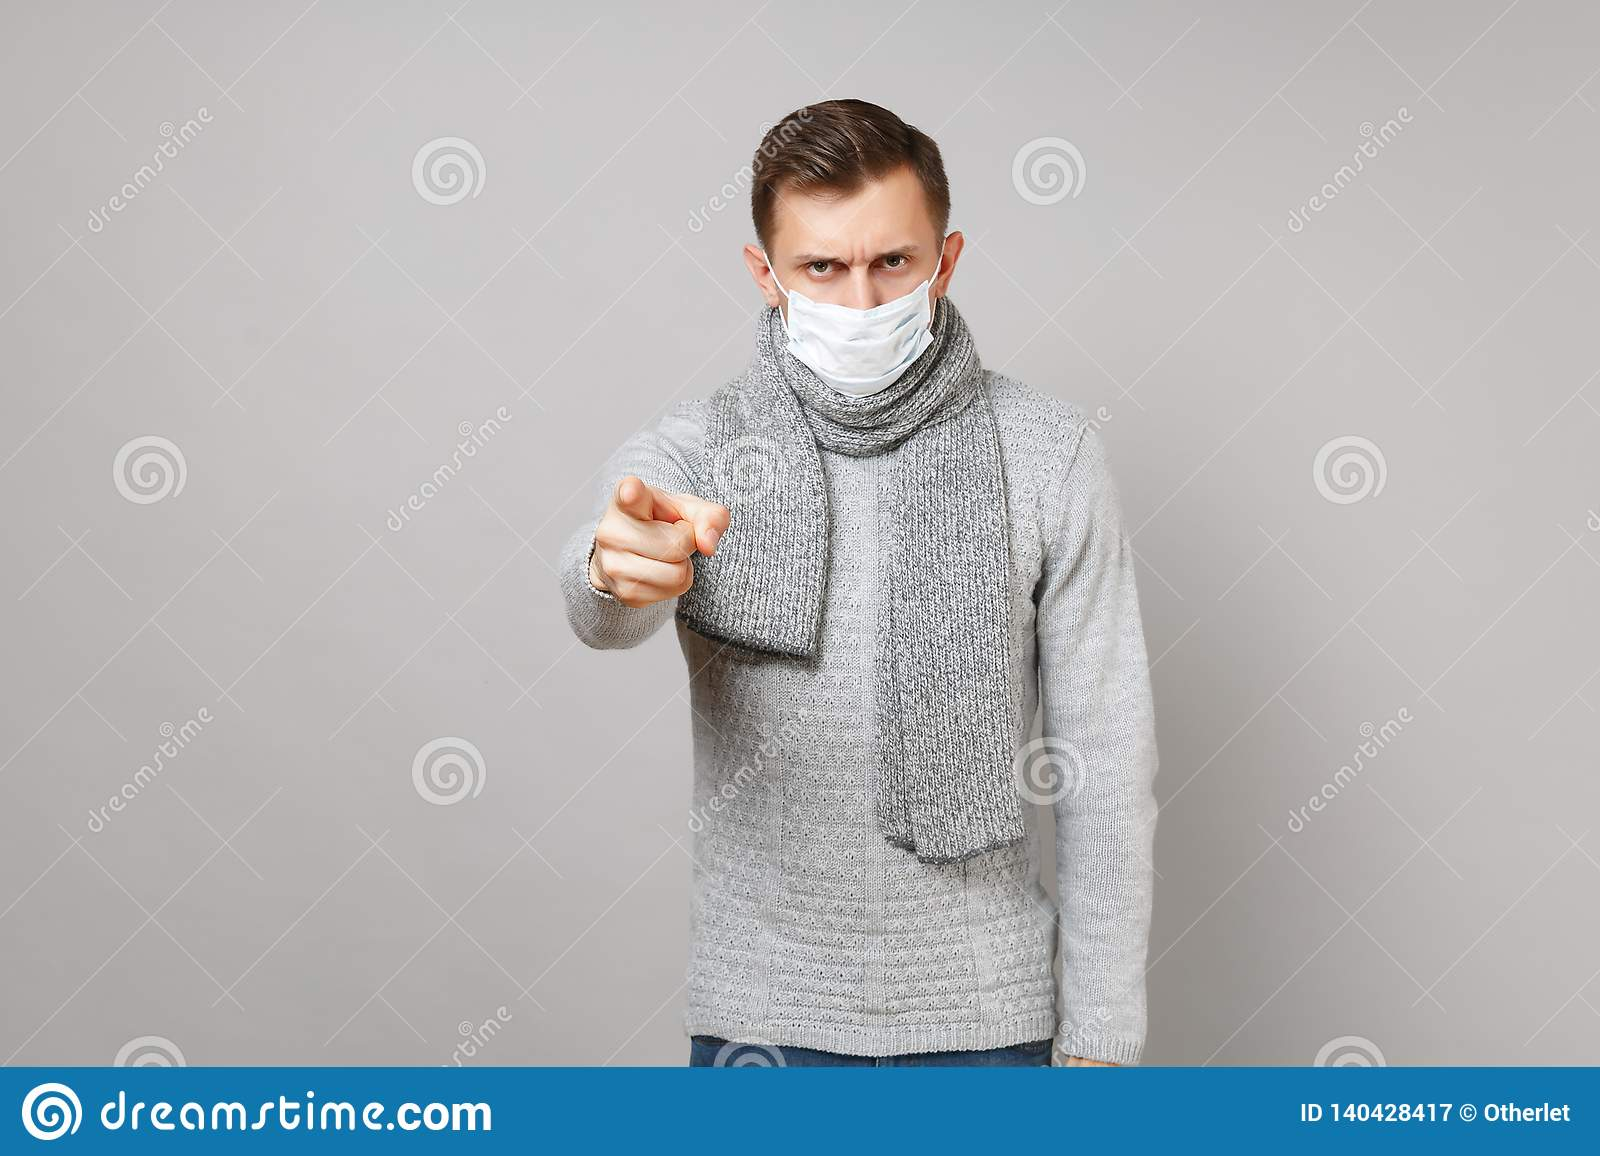mask: (776, 281, 937, 402)
